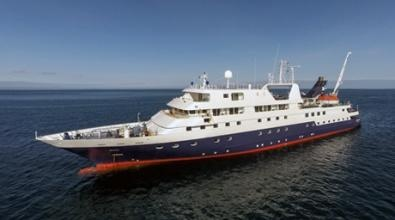yacht: (39, 60, 363, 178)
